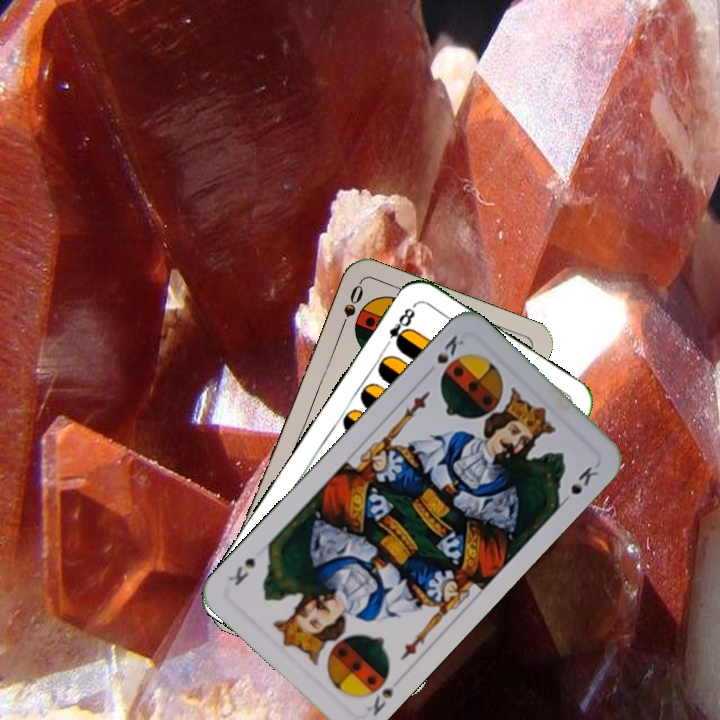E8: (379, 300, 419, 352)
SK: (421, 330, 467, 379), (362, 683, 397, 719)
SO: (334, 280, 366, 337)
